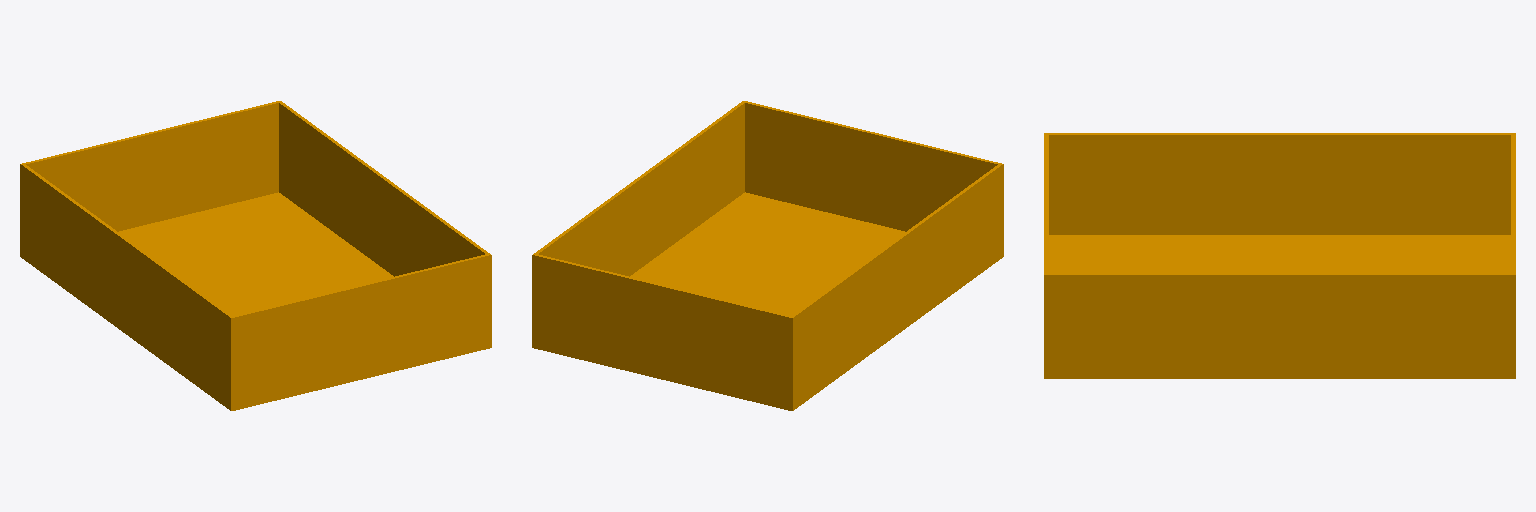
URDF robot description (box):
<?xml version="1.0" ?>

<robot name="box">
    <link name="box">
        <visual>
            <geometry>
                <mesh filename="package://baxter_pick_and_place/models/box/meshes/box.stl"/>
            </geometry>
        </visual>

        <collision>
            <geometry>
                <mesh filename="package://baxter_pick_and_place/models/box/meshes/box.stl"/>
                <!--<box size="0.225 0.316 0.077"/>-->
            </geometry>
        </collision>

        <inertial>
            <mass value="0.5"/>
            <inertia ixx="0.5" ixy="0.0" ixz="0.0"
                     iyy="0.5" iyz="0.0"
                     izz="0.5"/>
        </inertial>
    </link>

    <gazebo reference="box">
        <material>Gazebo/Wood</material>
        <mu1>1000</mu1>
        <mu2>1000</mu2>
    </gazebo>
</robot>

--- Facts derived from the render (not from the file) ---
3 views of the same robot in one strip: view 1: azimuth 30°, elevation 25°; view 2: azimuth 150°, elevation 25°; view 3: azimuth 270°, elevation 25° (orthographic).
Robot: box — 1 links, 0 joints (none); root link box; default pose: every joint at zero.
Visible links, largest first — view 1: box; view 2: box; view 3: box.
Link boxes in pixels (x1,y1,x2,y2): box: (20,101,491,410); box: (532,101,1003,410); box: (1044,133,1515,378).
Bounding box of the posed robot: 0.225 × 0.316 × 0.077 m (x, y, z).
1 mesh visuals loaded from 1 distinct referenced files (1 ASCII STL).